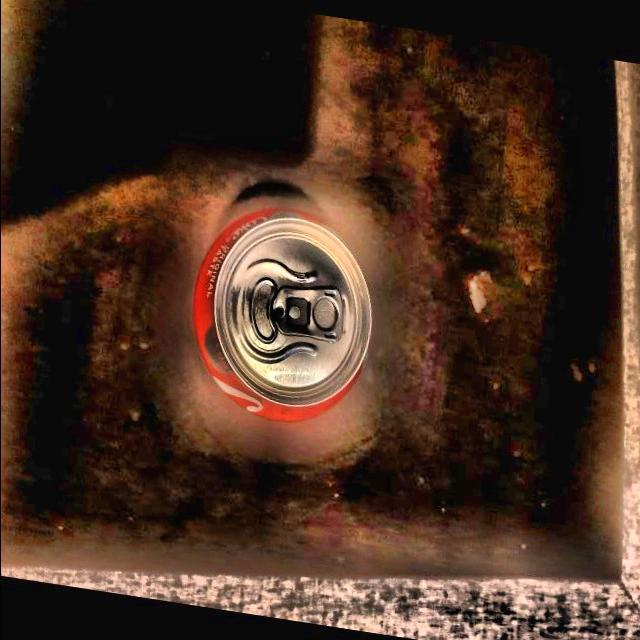coke-can: (194, 210, 380, 444)
